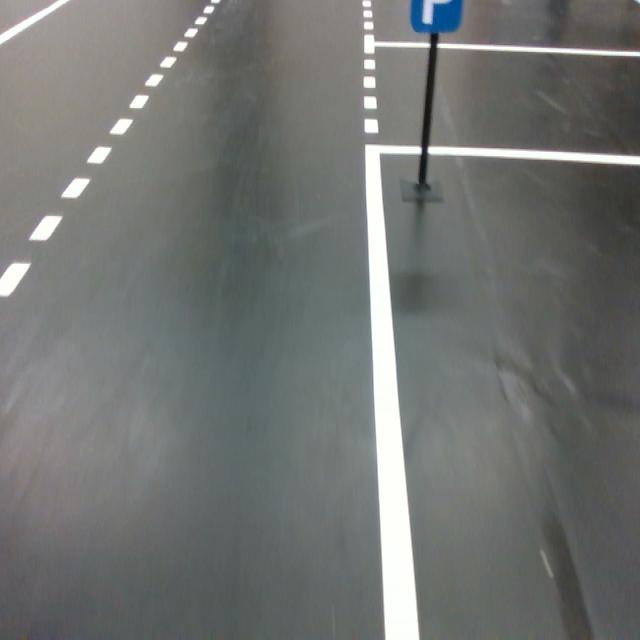parking-sign: (408, 0, 464, 35)
